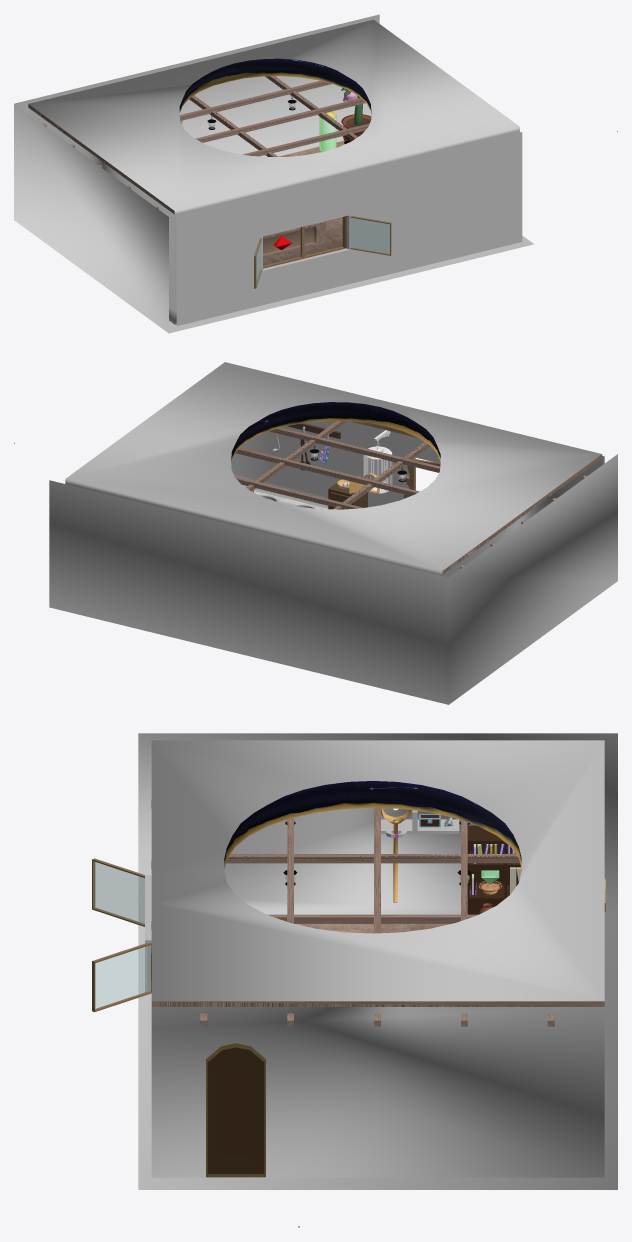
The picture shows the model from 3 angles, top to bottom: view 1: azimuth 30°, elevation 25°; view 2: azimuth 150°, elevation 25°; view 3: azimuth 270°, elevation 25°; orthographic projection. The views are drawn at different scales.
Parts seen in each view (by area): view 1: 部屋, 天井のやつ, 立方体, Cube.001, 梁, 鉢植え, 洗浄薬.002; view 2: 部屋, 天井のやつ, 梁, 鳥かご, ホルダー; view 3: 部屋, ドア, 立方体, 梁, 天井のやつ, 宝箱.001, 棚.
Boxes of the visible parts, <box> form: 部屋: <box>14,14,533,333</box>; 天井のやつ: <box>42,79,369,209</box>; 立方体: <box>254,215,391,288</box>; Cube.001: <box>263,221,326,257</box>; 梁: <box>189,76,357,156</box>; 鉢植え: <box>341,88,371,144</box>; 洗浄薬.002: <box>319,111,336,152</box>; 部屋: <box>49,362,617,704</box>; 天井のやつ: <box>234,421,586,568</box>; 梁: <box>246,421,430,509</box>; 鳥かご: <box>349,439,392,493</box>; ホルダー: <box>287,423,367,509</box>; 部屋: <box>138,733,617,1189</box>; ドア: <box>206,1043,265,1177</box>; 立方体: <box>92,858,151,1012</box>; 梁: <box>151,800,519,990</box>; 天井のやつ: <box>200,807,554,1026</box>; 宝箱.001: <box>467,825,520,914</box>; 棚: <box>381,810,459,837</box>.
Size of the model in its own units: 26208 by 7597 by 17671.
